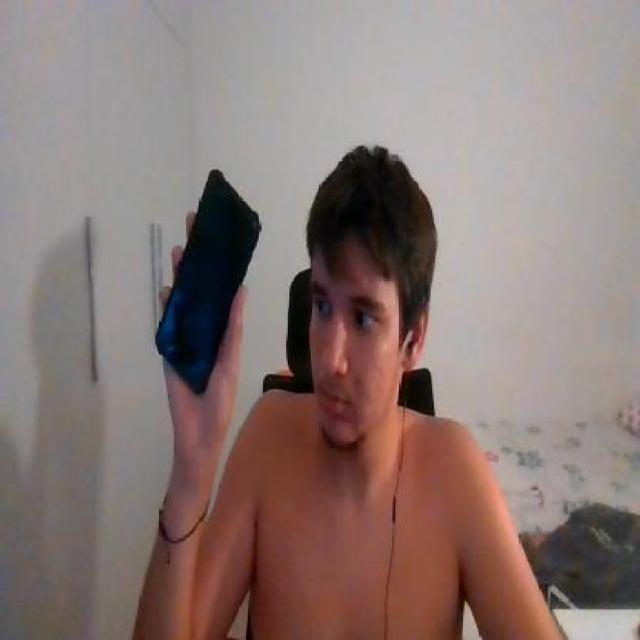mobile: (154, 168, 261, 395)
